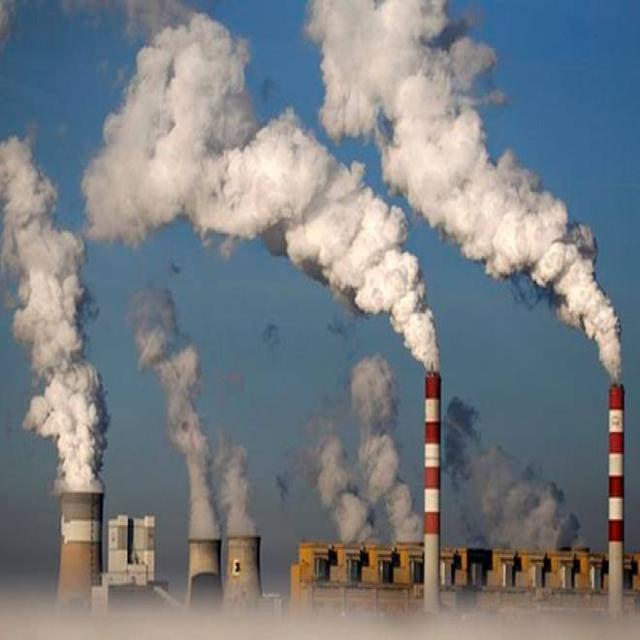Smoke: (79, 0, 442, 374), (306, 0, 624, 384), (316, 350, 582, 551), (0, 133, 112, 491), (127, 283, 259, 539)
